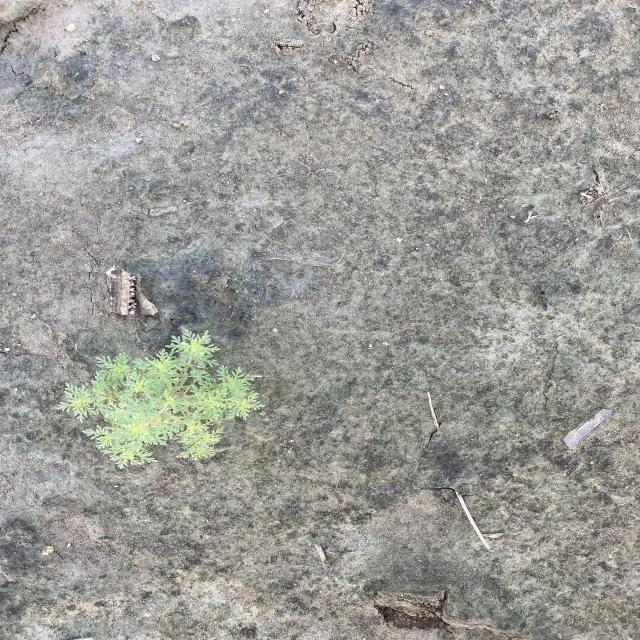Ragweed: (51, 328, 267, 472)
